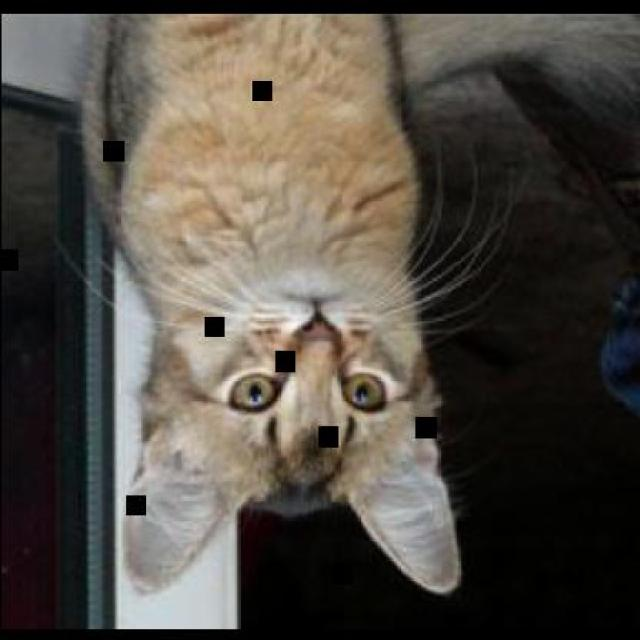unauthorized: (71, 12, 638, 597)
